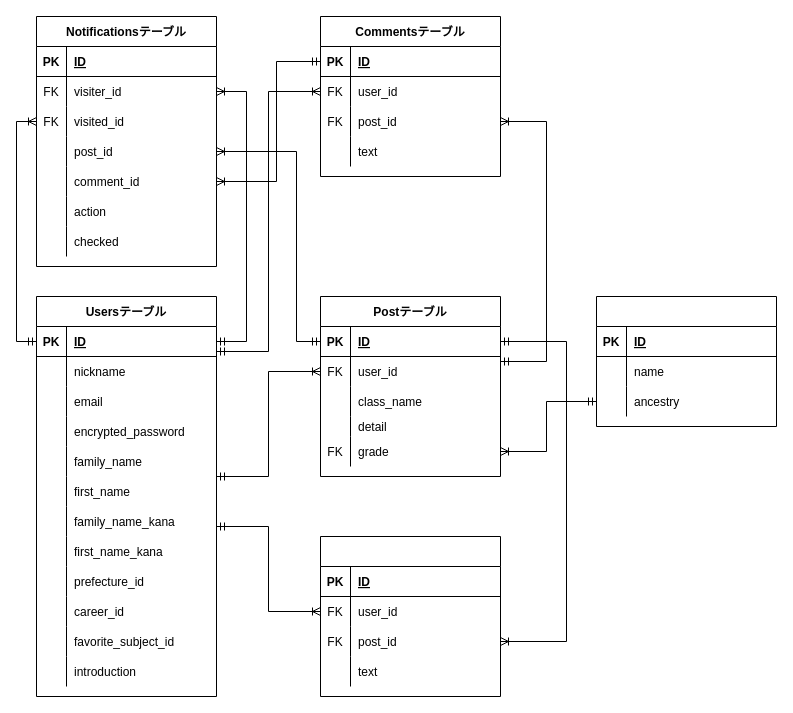
Image size: 793x713. Some labels were removed from this diagram. The box of each missing label's shape, as (x1, y1, x2, y2) in pixels:
Gradesテーブル: (596, 296, 776, 426)
Likesテーブル: (320, 536, 500, 696)
